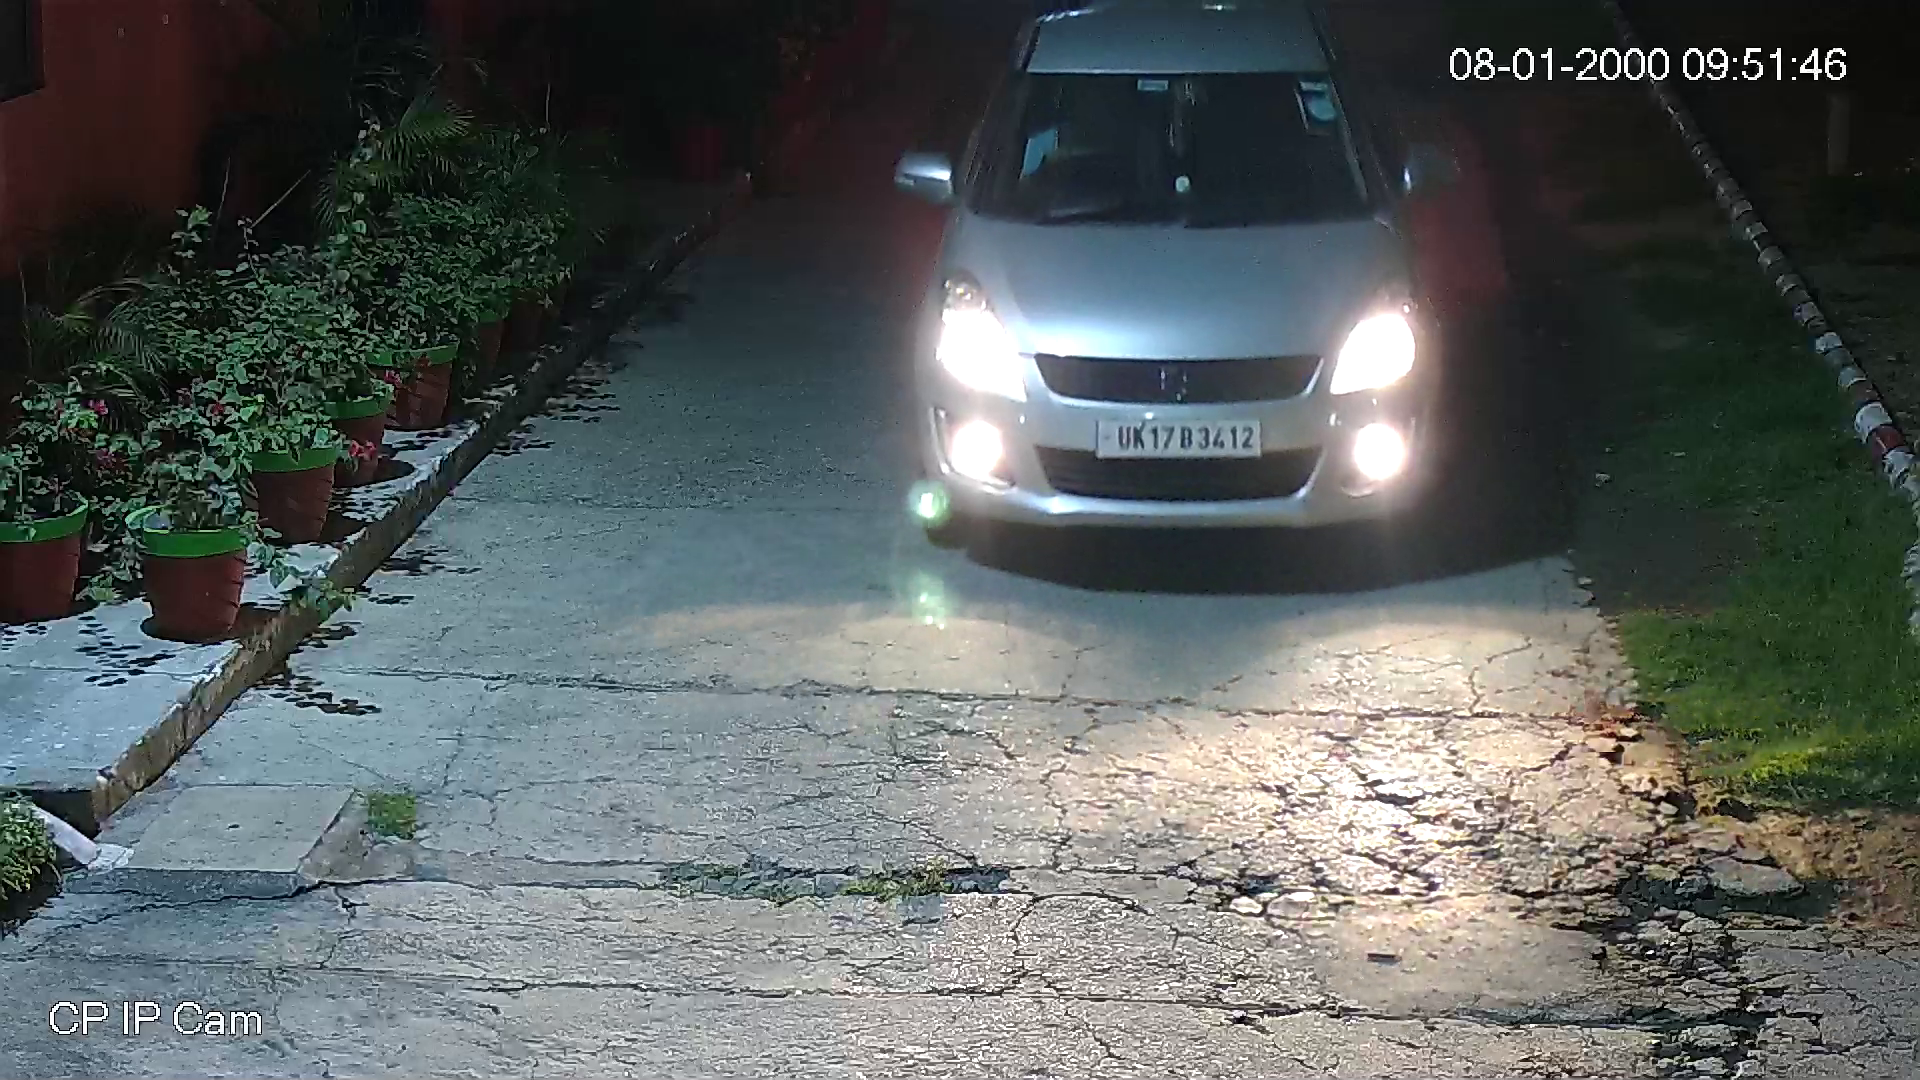plate: (1088, 410, 1259, 464)
